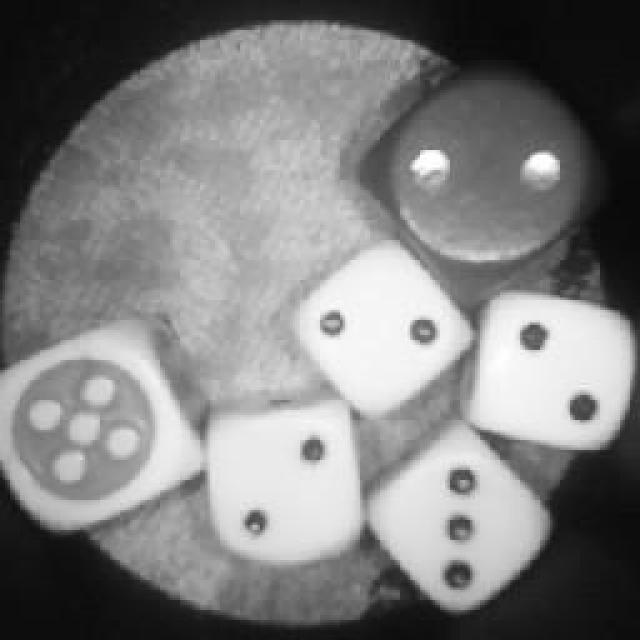dice_2: (367, 53, 605, 295), (292, 238, 472, 412), (465, 285, 640, 453), (202, 398, 368, 568)
dice_3: (345, 425, 560, 620)
dice_5: (0, 323, 205, 535)
